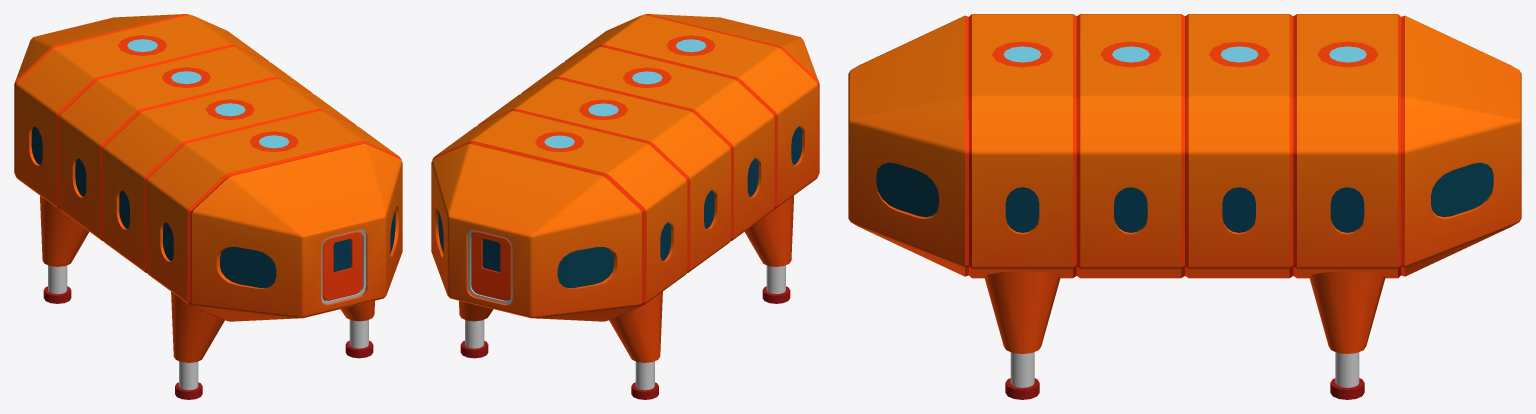
The model's file is arctic_base_001.fbx.
3 views of the same model, side by side, from view 1: azimuth 30°, elevation 25°; view 2: azimuth 150°, elevation 25°; view 3: azimuth 270°, elevation 25° (orthographic). The views are drawn at different scales.
Parts seen in each view (by area): view 1: arctic_base_001; view 2: arctic_base_001; view 3: arctic_base_001.
Boxes of the visible parts, box(x1,y1,x2,y2) form: arctic_base_001: box(14, 14, 402, 399); arctic_base_001: box(431, 14, 819, 399); arctic_base_001: box(848, 14, 1521, 399).
Bounding box in the file's own units: 814 × 1789 × 840.
